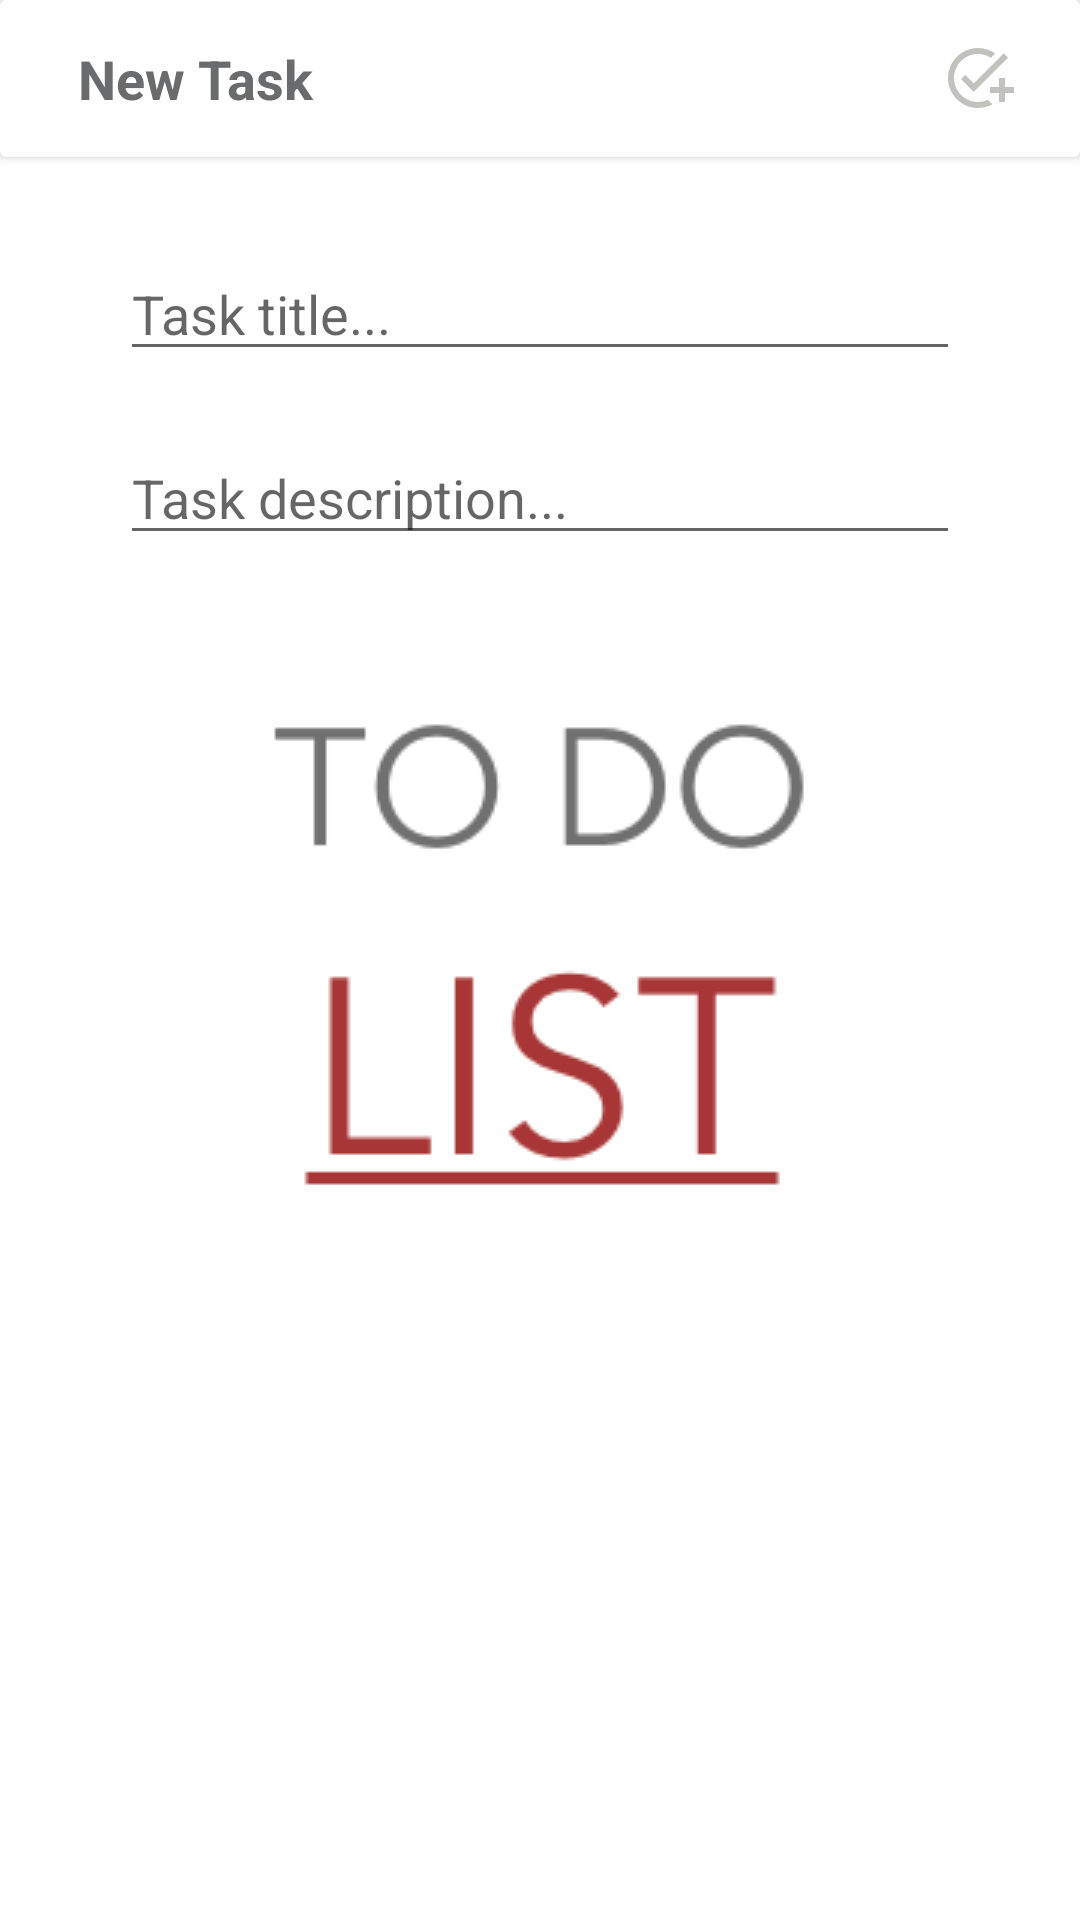

Icon bounding boxes for this 1080×1920 phone screenshot, format box=[x1, y1, x2, y2]:
add task: box=[948, 48, 1014, 108]
